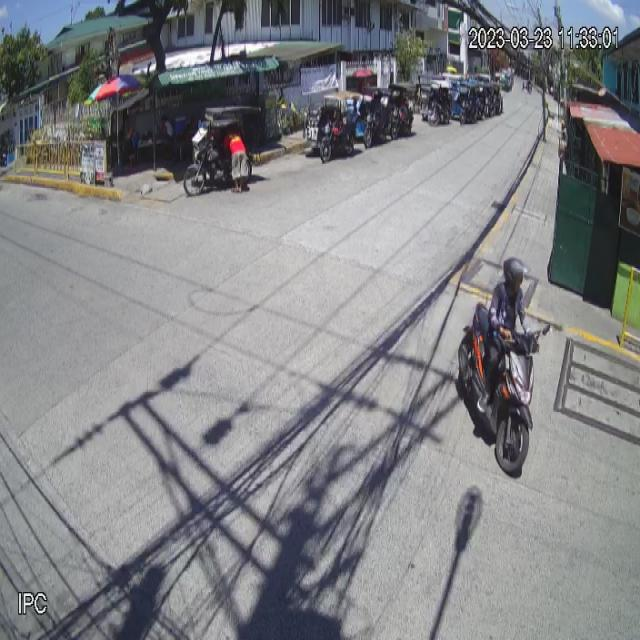Motorcycle: (456, 293, 552, 473)
